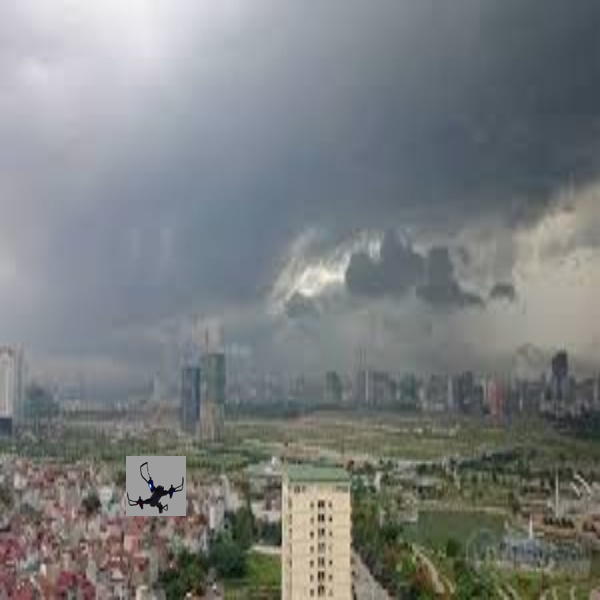drone: (124, 454, 190, 520)
